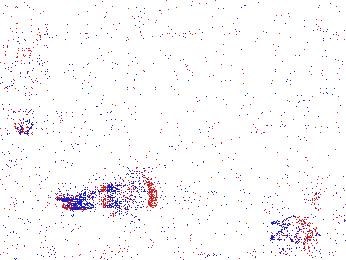flame jellyfish: (56, 161, 155, 223), (270, 185, 346, 245), (1, 50, 53, 136)
